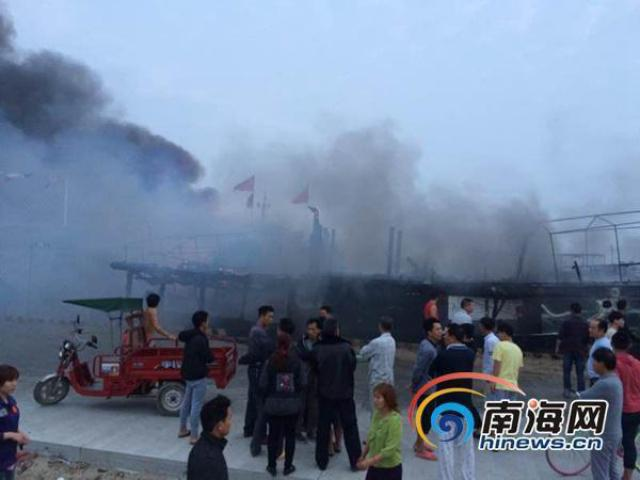smoke: (306, 126, 420, 262), (194, 138, 308, 252), (419, 184, 553, 271), (0, 43, 91, 165), (91, 112, 192, 214)
